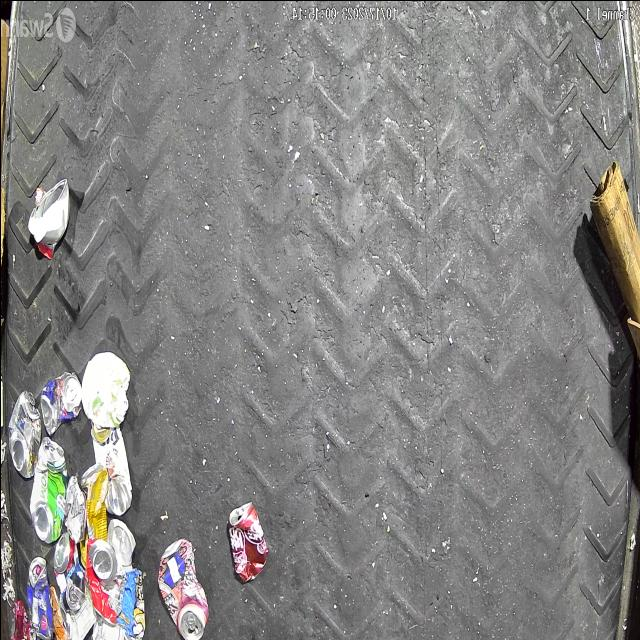can: (157, 536, 209, 640), (28, 436, 66, 544), (90, 420, 132, 516), (226, 500, 268, 584), (86, 537, 126, 625), (80, 462, 108, 569), (7, 390, 40, 478), (40, 370, 80, 436), (25, 556, 52, 640), (52, 530, 80, 592), (106, 518, 134, 572), (10, 598, 41, 640), (60, 572, 86, 612), (90, 620, 139, 640)
